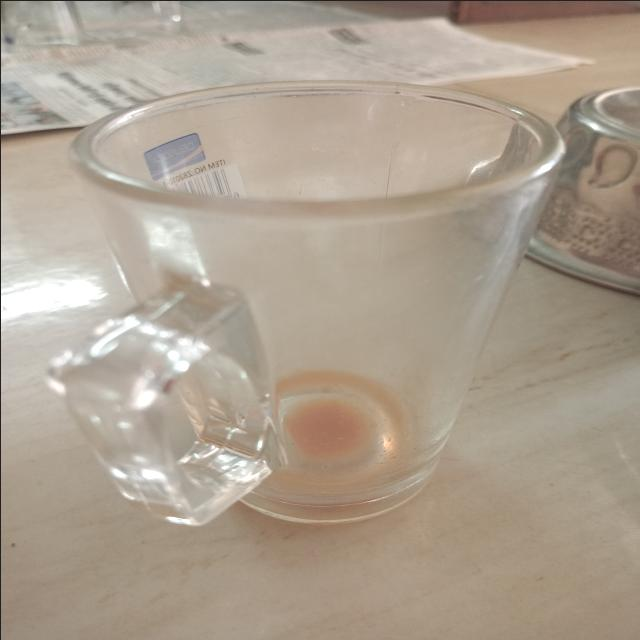glass-VX4N: (41, 88, 562, 526)
